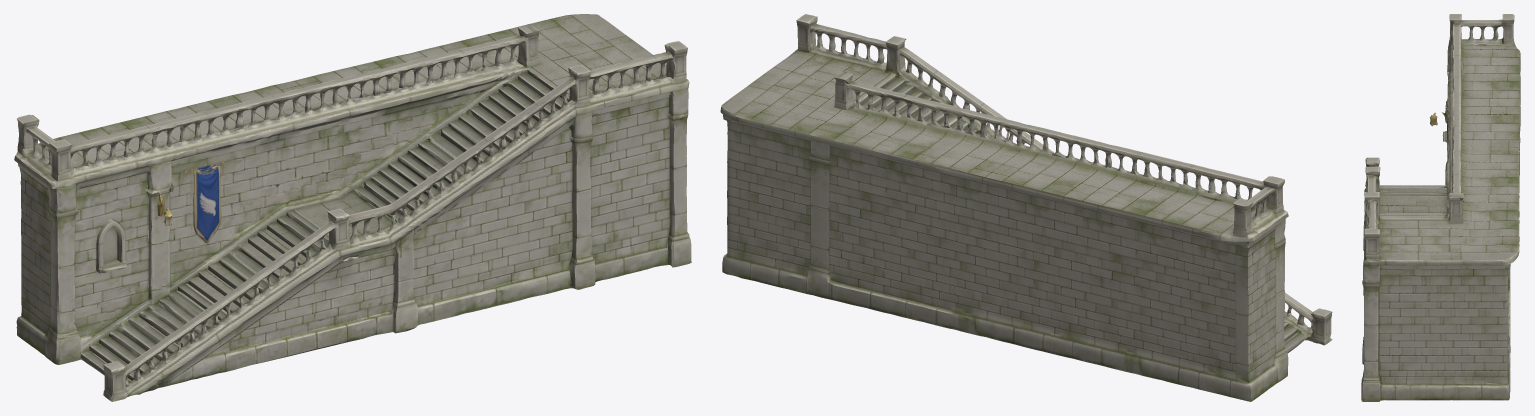
File: cloudreach_terrace_wall_stair.glb
3 renders of one model, left to right at view 1: azimuth 30°, elevation 25°; view 2: azimuth 150°, elevation 25°; view 3: azimuth 270°, elevation 25°, orthographic. The views are drawn at different scales.
Visible parts, largest first — view 1: Mesh_0; view 2: Mesh_0; view 3: Mesh_0.
Boxes of the visible parts, x1=… form: Mesh_0: x1=14, y1=14, x2=691, y2=401; Mesh_0: x1=720, y1=14, x2=1332, y2=401; Mesh_0: x1=1361, y1=14, x2=1520, y2=401.
Bounding box in the file's own units: 12 × 4.23 × 3.64.
Materials: 1 (1 with a texture image).
